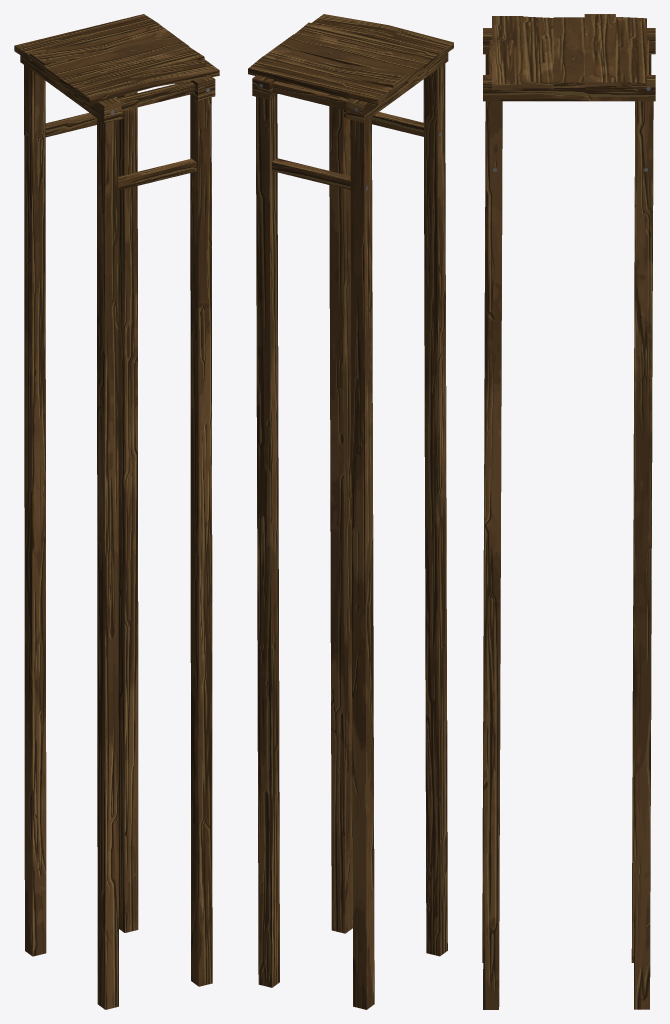
File: GameReadyPlattformB.glb
The picture shows the model from 3 angles, left to right: view 1: azimuth 30°, elevation 25°; view 2: azimuth 150°, elevation 25°; view 3: azimuth 270°, elevation 25°; orthographic projection. The views are drawn at different scales.
Parts seen in each view (by area): view 1: PlattformB-col; view 2: PlattformB-col; view 3: PlattformB-col.
Part boxes in pixels (<box>): PlattformB-col: <box>14,14,219,1009</box>; PlattformB-col: <box>248,14,453,1009</box>; PlattformB-col: <box>482,14,655,1009</box>.
Bounding box in the file's own units: 1.78 × 11.98 × 2.01.
1 material, 1 textured.
